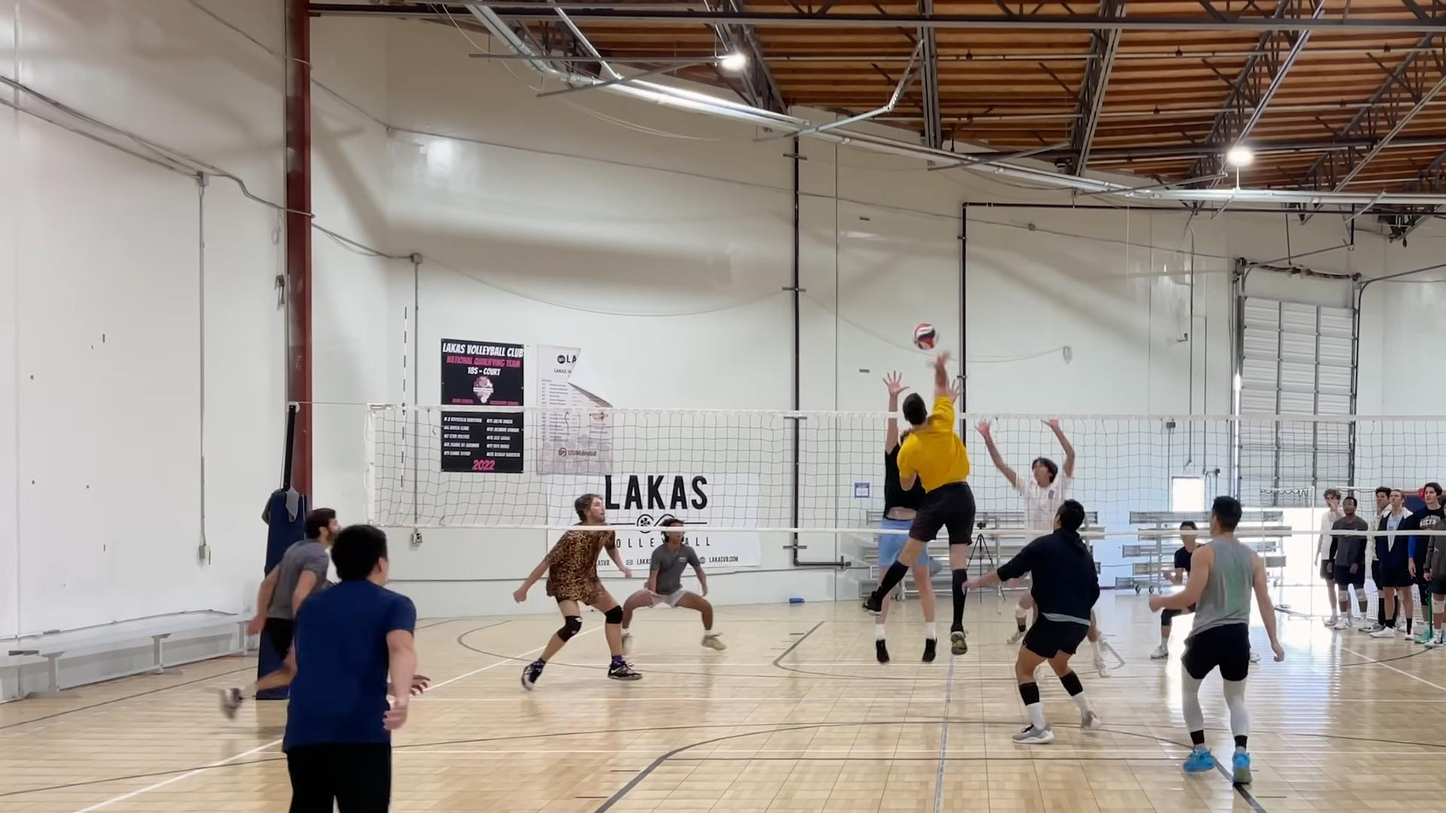attacco: (835, 376, 987, 672)
muro: (866, 335, 945, 565), (970, 396, 1083, 536)
